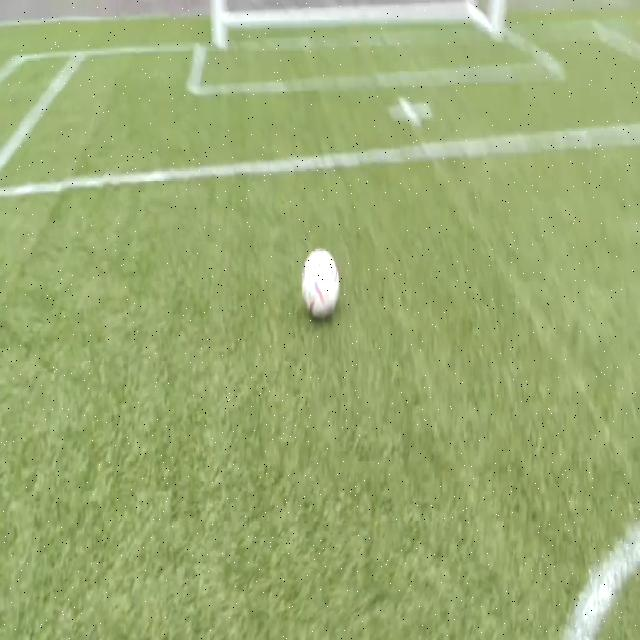ball: (302, 248, 339, 316)
goalpost: (208, 0, 230, 56), (485, 0, 509, 46)
